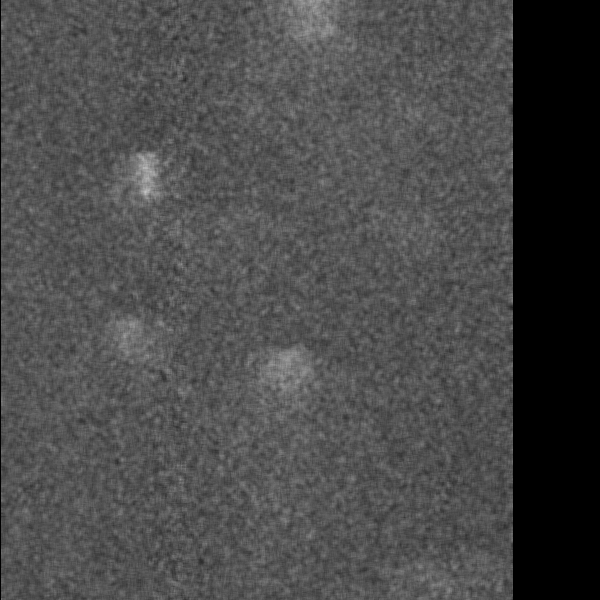spark: (256, 345, 293, 433), (128, 143, 164, 216), (111, 312, 139, 387)
